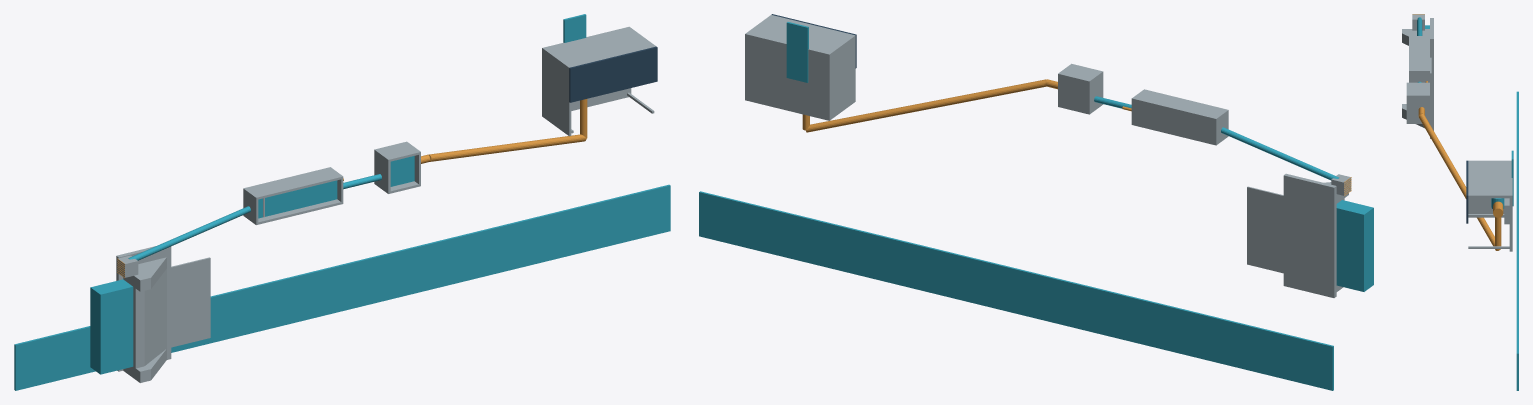
Rendered from conjunto.obj.
3 renders of one model, left to right at view 1: azimuth 30°, elevation 25°; view 2: azimuth 150°, elevation 25°; view 3: azimuth 270°, elevation 25°, orthographic. The views are drawn at different scales.
Parts seen in each view (by area): view 1: Rio_esquematico, Presa___Agua_aguas_arriba, Presa___Solera_disipacion, Casa_de_maquinas___Cubierta_parcial, Presa___Vertedero_central, Casa_de_maquinas___Muro_posterior, Casa_de_maquinas___Muro_lateral, Desarenador___Agua_ilustrativa, Tuberia_presion, Desarenador___Muro_derecho, Presa___Cimentacion_conceptual, Conexion_captacion (+6 smaller); view 2: Rio_esquematico, Presa___Cimentacion_conceptual, Casa_de_maquinas___Losa, Presa___Agua_aguas_arriba, Presa___Solera_disipacion, Desarenador___Losa, Tuberia_presion, Casa_de_maquinas___Muro_posterior, Casa_de_maquinas___Muro_lateral, Casa_de_maquinas___Canal_retorno, Camara_de_carga___Losa, Desarenador___Muro_derecho (+1 smaller); view 3: Casa_de_maquinas___Muro_posterior, Rio_esquematico, Tuberia_presion, Desarenador___Muro_derecho, Casa_de_maquinas___Muro_lateral, Camara_de_carga___Salida, Presa___Cimentacion_conceptual, Camara_de_carga___Muro_derecho, Casa_de_maquinas___Losa, Casa_de_maquinas___Columna, Presa___Estribo_derecho, Casa_de_maquinas___Entrada_presion (+9 smaller).
Boxes of the visible parts, bbox=[...] form: Rio_esquematico: bbox=[14, 184, 670, 390]; Presa___Agua_aguas_arriba: bbox=[90, 279, 133, 374]; Presa___Solera_disipacion: bbox=[167, 257, 210, 347]; Casa_de_maquinas___Cubierta_parcial: bbox=[569, 46, 657, 102]; Presa___Vertedero_central: bbox=[133, 269, 166, 368]; Casa_de_maquinas___Muro_posterior: bbox=[544, 28, 656, 69]; Casa_de_maquinas___Muro_lateral: bbox=[544, 49, 571, 136]; Desarenador___Agua_ilustrativa: bbox=[258, 180, 337, 218]; Tuberia_presion: bbox=[428, 134, 586, 161]; Desarenador___Muro_derecho: bbox=[244, 168, 343, 199]; Presa___Cimentacion_conceptual: bbox=[116, 246, 171, 371]; Conexion_captacion: bbox=[128, 206, 250, 260]; Rio_esquematico: bbox=[699, 191, 1333, 390]; Presa___Cimentacion_conceptual: bbox=[1283, 173, 1336, 297]; Casa_de_maquinas___Losa: bbox=[745, 32, 831, 120]; Presa___Agua_aguas_arriba: bbox=[1336, 200, 1373, 291]; Presa___Solera_disipacion: bbox=[1247, 186, 1283, 273]; Desarenador___Losa: bbox=[1131, 97, 1217, 145]; Tuberia_presion: bbox=[806, 79, 1046, 132]; Casa_de_maquinas___Muro_posterior: bbox=[747, 15, 855, 54]; Casa_de_maquinas___Muro_lateral: bbox=[831, 35, 855, 119]; Casa_de_maquinas___Canal_retorno: bbox=[786, 22, 808, 82]; Camara_de_carga___Losa: bbox=[1058, 72, 1090, 114]; Desarenador___Muro_derecho: bbox=[1134, 89, 1228, 119]; Casa_de_maquinas___Muro_posterior: bbox=[1468, 160, 1509, 197]; Rio_esquematico: bbox=[1516, 91, 1518, 390]; Tuberia_presion: bbox=[1419, 114, 1499, 250]; Desarenador___Muro_derecho: bbox=[1409, 36, 1427, 72]; Casa_de_maquinas___Muro_lateral: bbox=[1468, 160, 1509, 217]; Camara_de_carga___Salida: bbox=[1406, 97, 1427, 121]; Presa___Cimentacion_conceptual: bbox=[1430, 18, 1433, 130]; Camara_de_carga___Muro_derecho: bbox=[1406, 82, 1427, 97]; Casa_de_maquinas___Losa: bbox=[1509, 160, 1512, 251]; Casa_de_maquinas___Columna: bbox=[1468, 197, 1509, 248]; Presa___Estribo_derecho: bbox=[1402, 29, 1429, 45]; Casa_de_maquinas___Entrada_presion: bbox=[1495, 217, 1501, 249].
Size of the model in its own units: 60 by 21 by 11.3.
